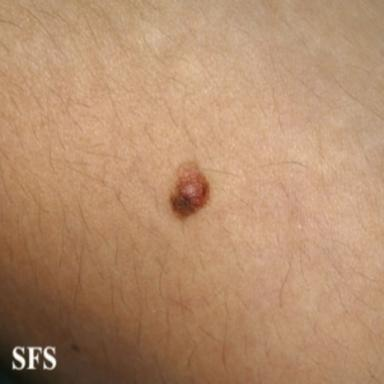Melanoma: (170, 163, 209, 218)
